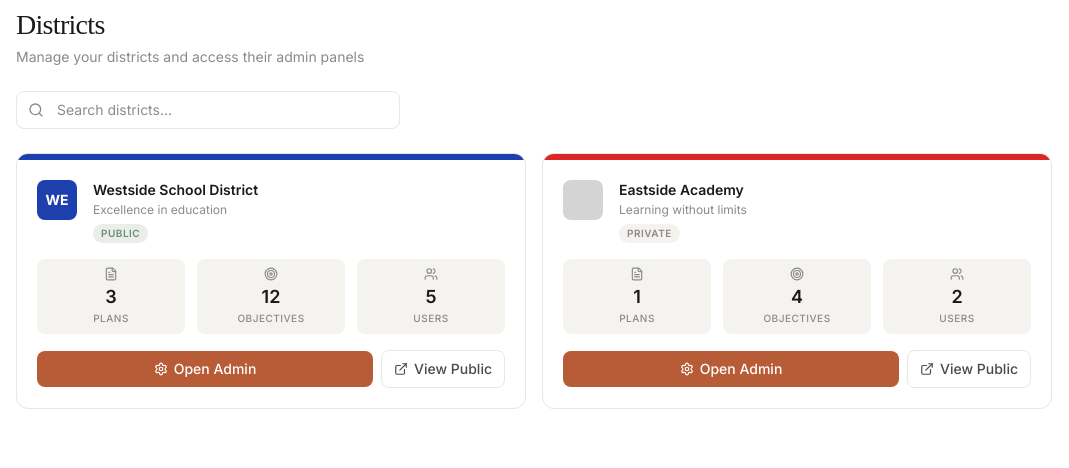
Test case: DashboardDistrictsPage › search filters districts by name
Type "Eastside" into the field with placeholder "Search districts..." at [208, 110], box [16,91,400,129]
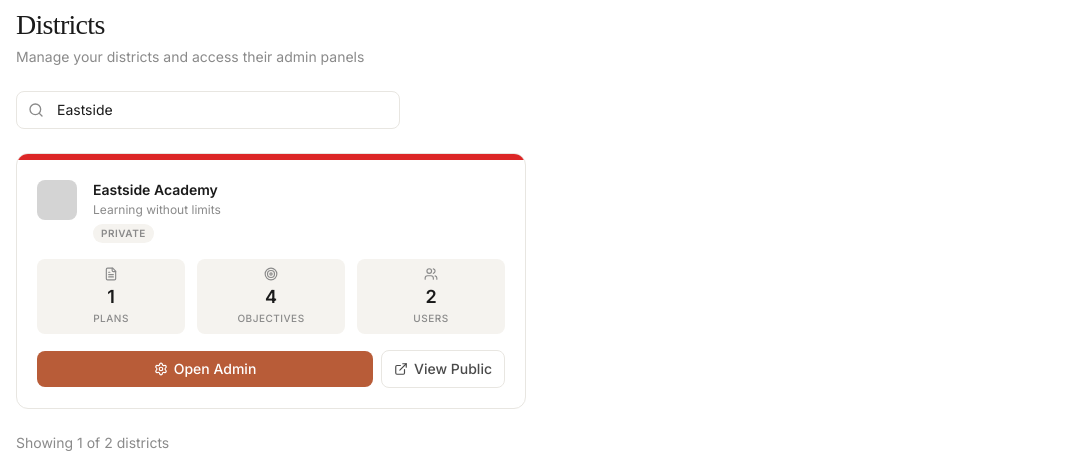
Expected: the heading "Eastside Academy" is shown, [93,181,218,198]
Expected: the heading "Westside School District" is gone
